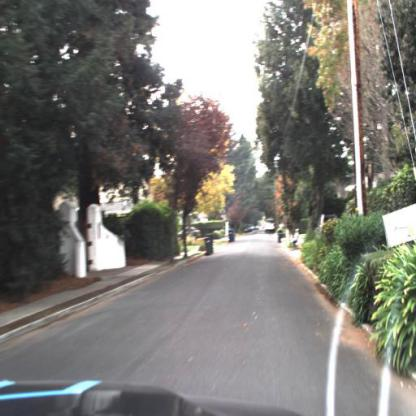car: (175, 226, 201, 240), (264, 219, 275, 233), (244, 223, 252, 234)
